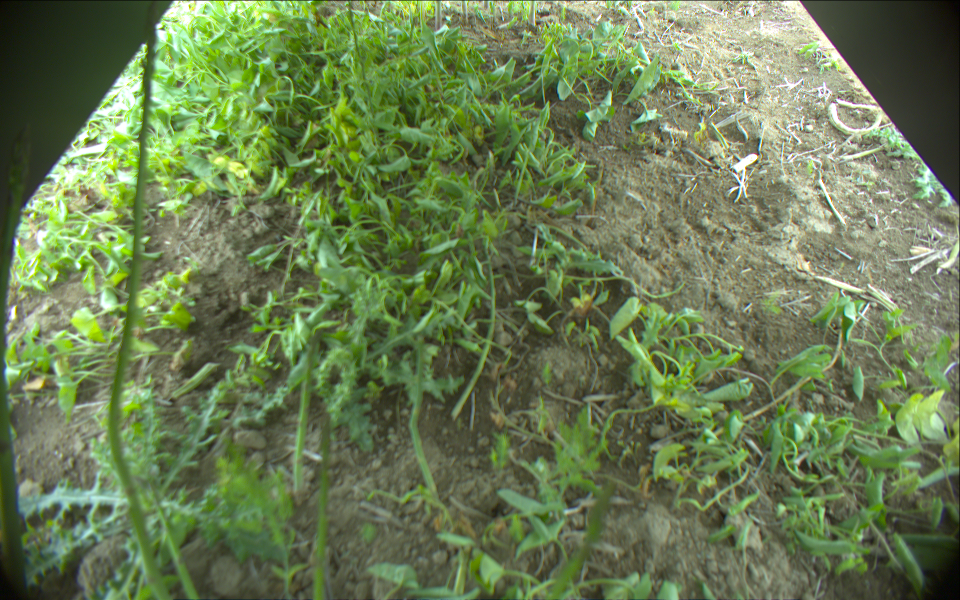aspa: (102, 1, 179, 600), (449, 232, 497, 421), (542, 480, 614, 600), (147, 479, 201, 600), (286, 329, 319, 495), (410, 333, 437, 494), (309, 405, 331, 600), (527, 1, 539, 26), (434, 1, 442, 31), (461, 1, 468, 25)
